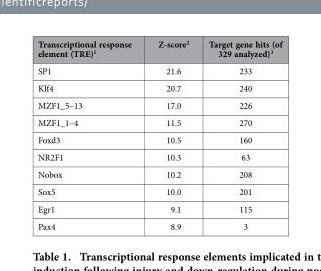table: (37, 37, 281, 231)
table column: (37, 37, 144, 231), (198, 37, 281, 231), (144, 37, 198, 231)
table column header: (37, 37, 281, 61)
table row: (37, 37, 281, 61), (37, 61, 281, 79), (37, 130, 281, 148), (37, 199, 281, 217), (37, 79, 281, 96), (37, 96, 281, 113), (37, 113, 281, 130), (37, 148, 281, 165), (37, 165, 281, 182), (37, 182, 281, 199), (37, 217, 281, 231)
